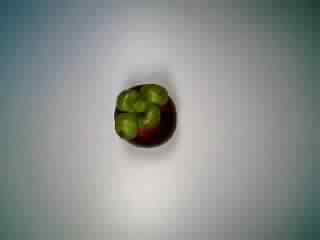mangosteen: (108, 76, 178, 150)
